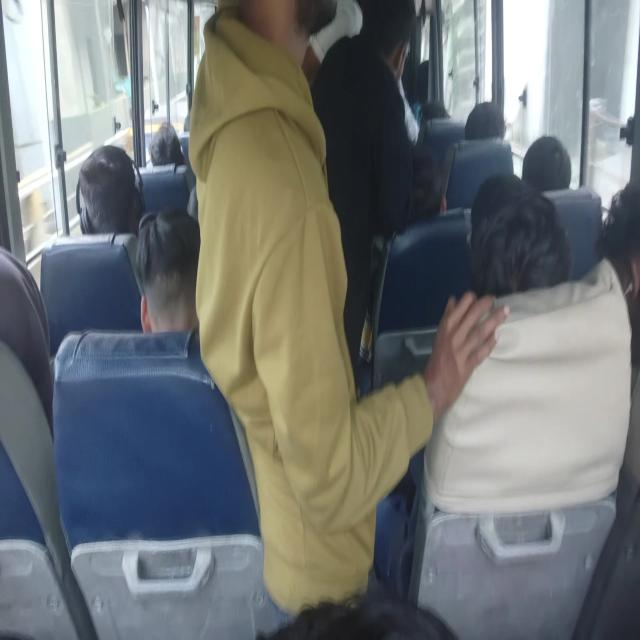person: (188, 0, 509, 616), (309, 1, 420, 383), (467, 171, 572, 298), (132, 205, 200, 334), (75, 144, 144, 235), (596, 180, 640, 308), (521, 134, 572, 192), (148, 121, 185, 167), (464, 101, 506, 140)
